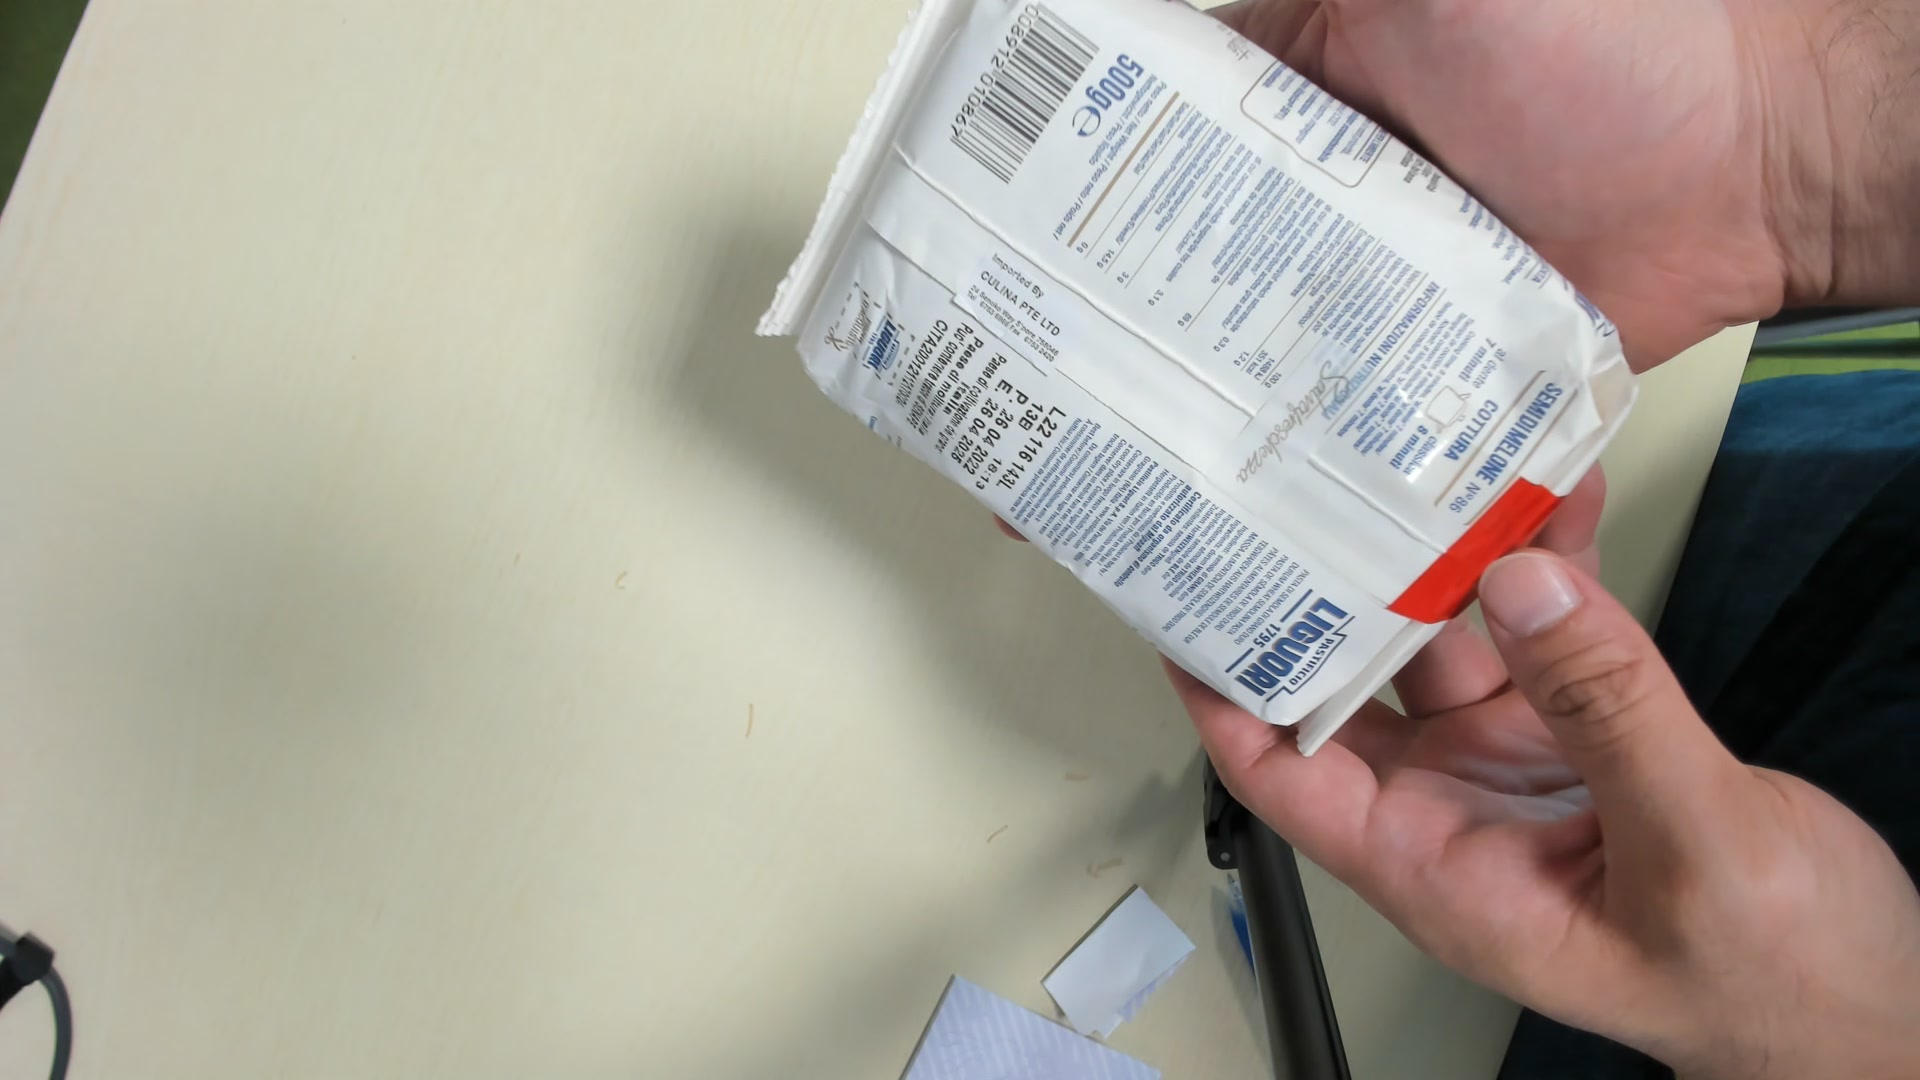Pasta_500-599g_NonHalal_NonHealthy: (749, 3, 1631, 753)
